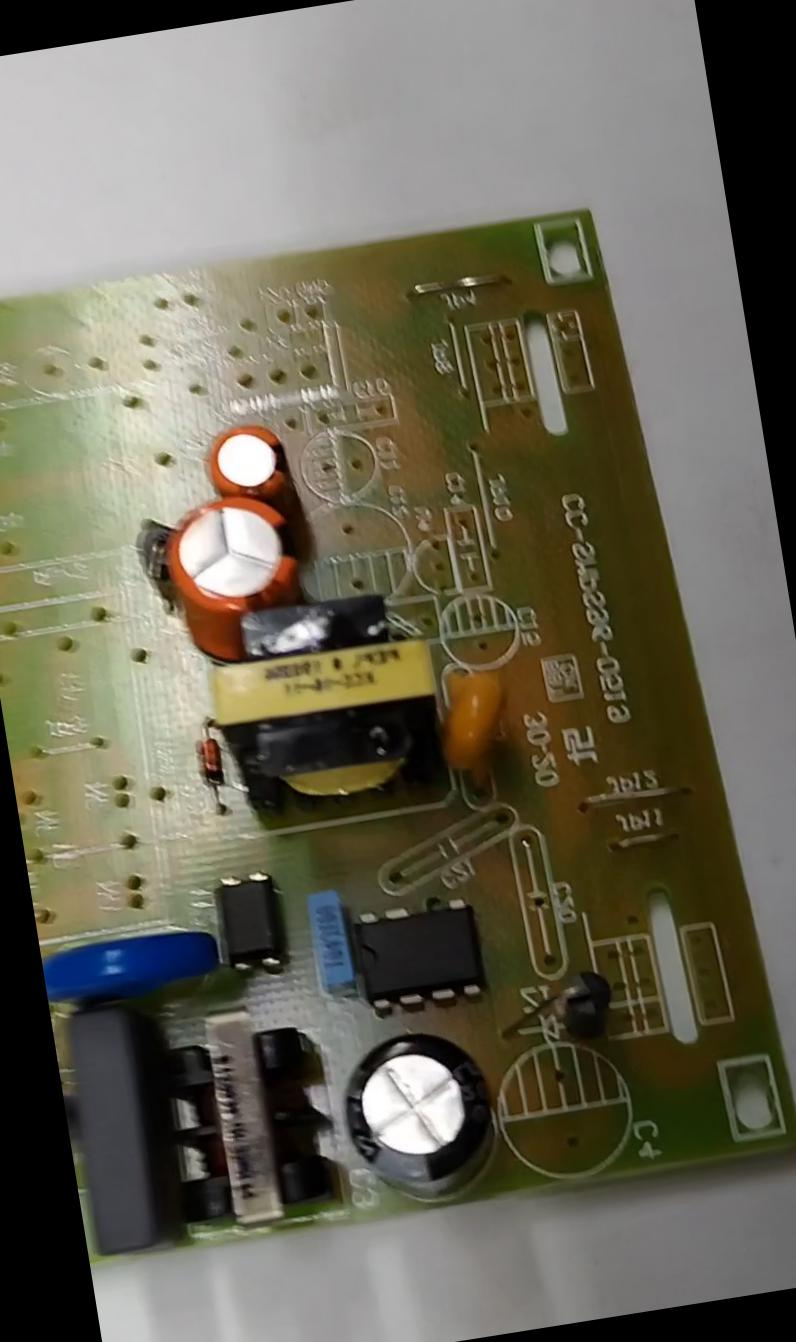Cap1: (162, 485, 300, 623)
Cap2: (199, 418, 290, 500)
Cap3: (334, 1022, 504, 1206)
MOSFET: (353, 893, 486, 1012)
Mov: (40, 918, 224, 1006)
Resistor: (62, 1086, 75, 1138)
Transformer: (196, 583, 451, 823), (156, 1000, 338, 1224)
